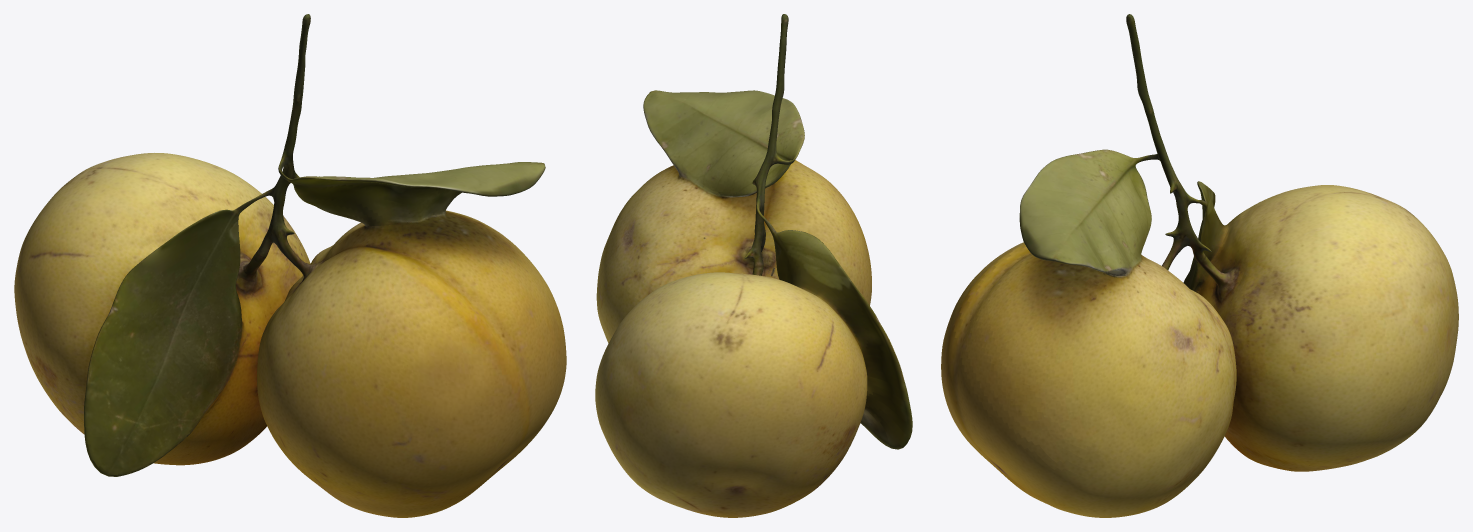
Rendered from citrus_30k.glb.
3 renders of one model, left to right at view 1: azimuth 30°, elevation 25°; view 2: azimuth 150°, elevation 25°; view 3: azimuth 270°, elevation 25°, orthographic. The views are drawn at different scales.
Visible parts, largest first — view 1: k_citrus_testSize:polySurface5 k_citrus_testSize:polySurface (×14), k_citrus_testSize:polySurface2 k_citrus_testSize:polySurface (×17), k_citrus_testSize:polySurface3 k_citrus_testSize:polySurface (×18), k_citrus_testSize:polySurface4 k_citrus_testSize:polySurface; view 2: k_citrus_testSize:polySurface2 k_citrus_testSize:polySurface (×8), k_citrus_testSize:polySurface3 k_citrus_testSize:polySurface (×17), k_citrus_testSize:polySurface5 k_citrus_testSize:polySurface (×15), k_citrus_testSize:polySurface4 k_citrus_testSize:polySurface; view 3: k_citrus_testSize:polySurface5 k_citrus_testSize:polySurface (×18), k_citrus_testSize:polySurface2 k_citrus_testSize:polySurface (×6), k_citrus_testSize:polySurface3 k_citrus_testSize:polySurface (×7), k_citrus_testSize:polySurface4 k_citrus_testSize:polySurface.
Part boxes in pixels (<box>): k_citrus_testSize:polySurface5 k_citrus_testSize:polySurface (×14): <box>256,222,566,517</box>; k_citrus_testSize:polySurface2 k_citrus_testSize:polySurface (×17): <box>14,153,310,465</box>; k_citrus_testSize:polySurface3 k_citrus_testSize:polySurface (×18): <box>84,162,539,476</box>; k_citrus_testSize:polySurface4 k_citrus_testSize:polySurface: <box>269,14,316,275</box>; k_citrus_testSize:polySurface2 k_citrus_testSize:polySurface (×8): <box>595,272,865,517</box>; k_citrus_testSize:polySurface3 k_citrus_testSize:polySurface (×17): <box>643,90,912,447</box>; k_citrus_testSize:polySurface5 k_citrus_testSize:polySurface (×15): <box>596,160,871,343</box>; k_citrus_testSize:polySurface4 k_citrus_testSize:polySurface: <box>753,14,794,254</box>; k_citrus_testSize:polySurface5 k_citrus_testSize:polySurface (×18): <box>941,242,1236,517</box>; k_citrus_testSize:polySurface2 k_citrus_testSize:polySurface (×6): <box>1220,185,1458,471</box>; k_citrus_testSize:polySurface3 k_citrus_testSize:polySurface (×7): <box>1019,149,1151,277</box>; k_citrus_testSize:polySurface4 k_citrus_testSize:polySurface: <box>1126,14,1192,263</box>.
Size of the model in its own units: 0.3413 by 0.4006 by 0.4076.
1 material, 1 textured.
